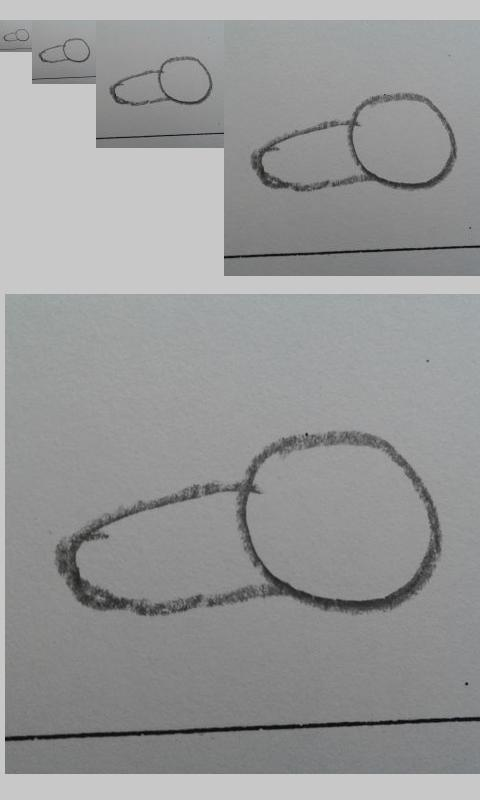switch: (53, 429, 445, 618), (249, 92, 458, 193), (108, 56, 213, 107), (38, 37, 91, 63), (3, 28, 30, 42)
